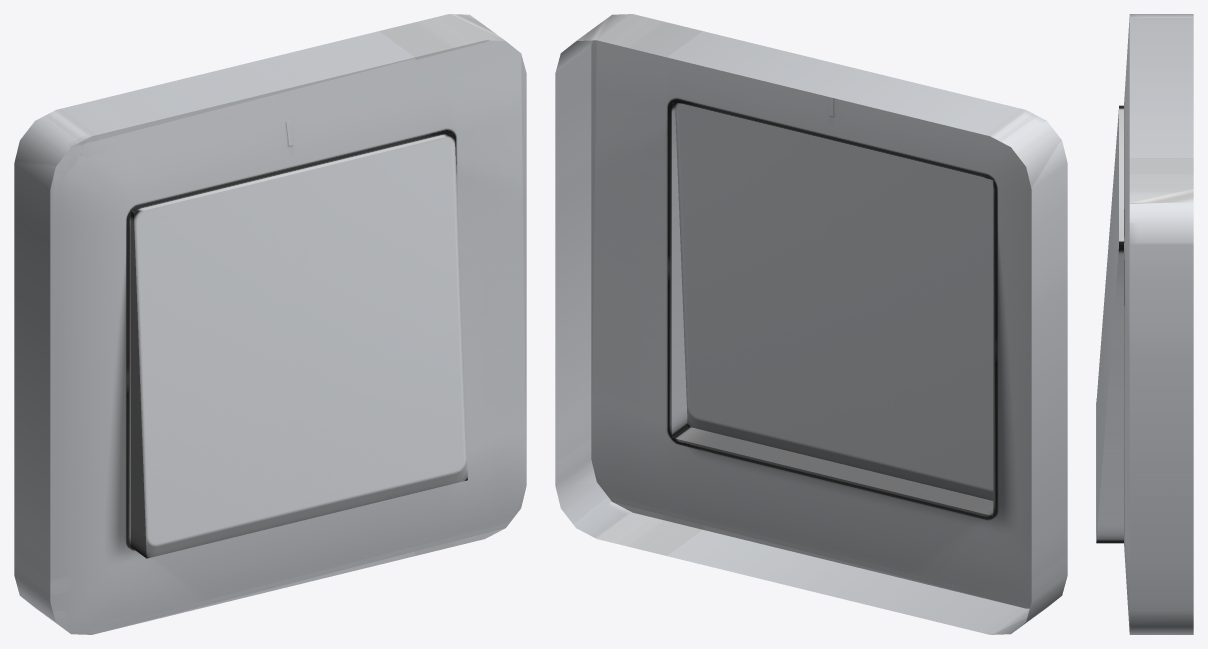
Rendered from vikl.glb.
3 renders of one model, left to right at view 1: azimuth 30°, elevation 25°; view 2: azimuth 150°, elevation 25°; view 3: azimuth 270°, elevation 25°, orthographic. The views are drawn at different scales.
Parts seen in each view (by area): view 1: vikl; view 2: vikl; view 3: vikl.
Boxes of the visible parts, bbox=[...] form: vikl: bbox=[14, 14, 526, 634]; vikl: bbox=[555, 14, 1067, 634]; vikl: bbox=[1096, 14, 1193, 634].
Size of the model in its own units: 0.084 by 0.084 by 0.0167.
1 material, 1 textured.
